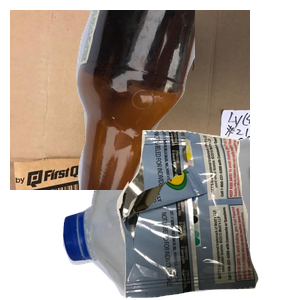cardboard: (10, 10, 250, 190)
glass: (60, 10, 300, 190)
plastic: (60, 135, 300, 300)
trash: (114, 130, 300, 300)
